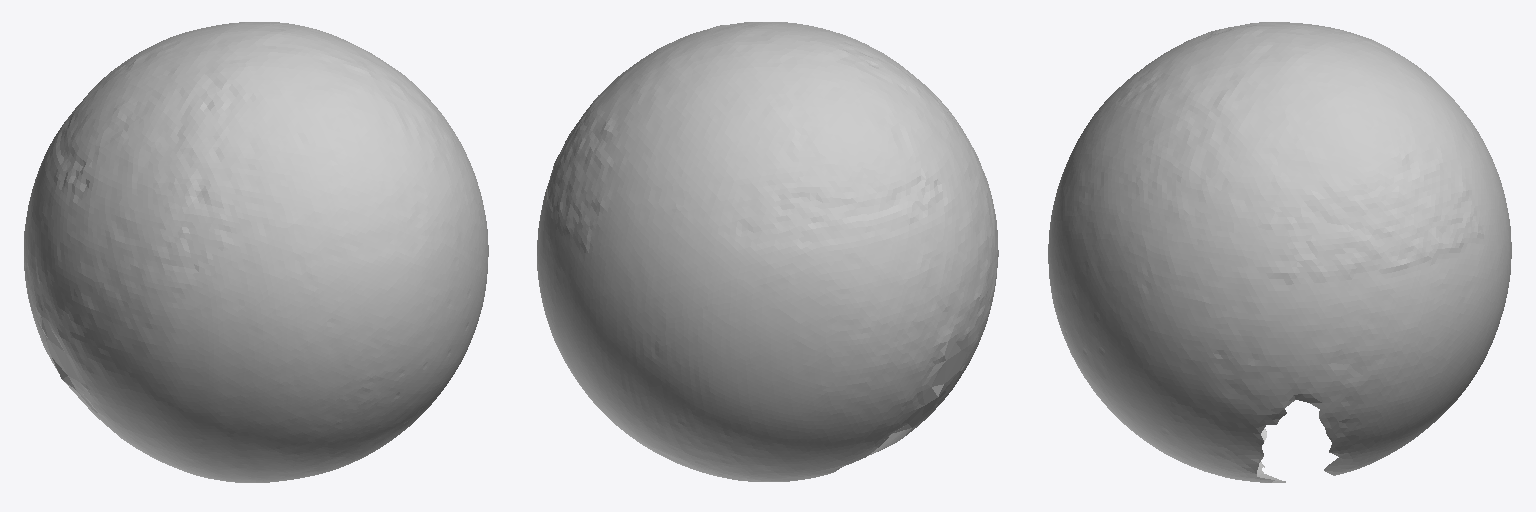
The model's file is Gridtest_1_1_1.000001.obj.
The picture shows the model from 3 angles: view 1: azimuth 30°, elevation 25°; view 2: azimuth 150°, elevation 25°; view 3: azimuth 270°, elevation 25°; orthographic projection.
Size of the model in its own units: 299 by 304 by 300.